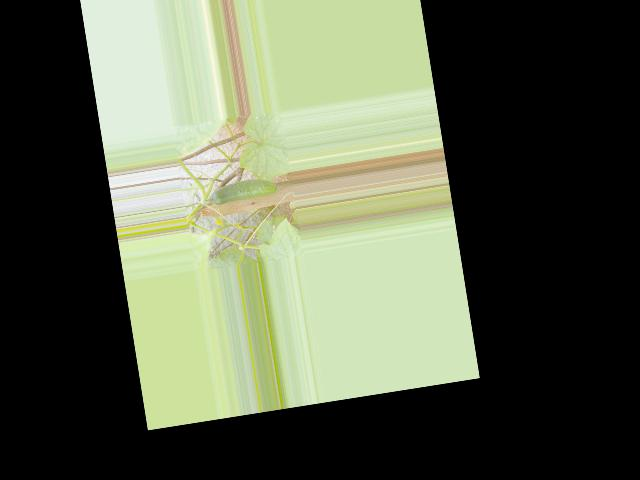cucumber: (209, 175, 278, 206)
